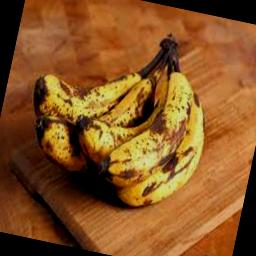Banana Rotten: (8, 1, 240, 228)
